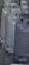cylinder: (1, 1, 29, 65)
